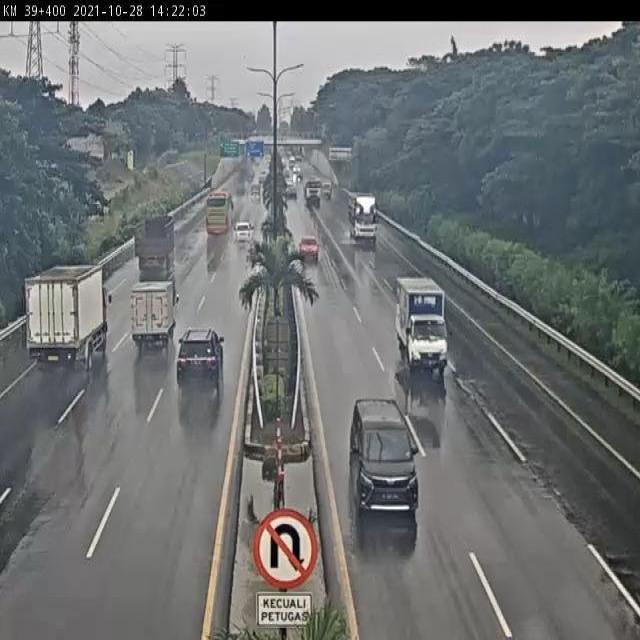big bus: (203, 190, 235, 238)
car: (348, 398, 420, 518), (175, 328, 227, 388), (297, 234, 320, 262), (233, 219, 255, 245)
truck-l-: (21, 260, 112, 372), (129, 212, 177, 272), (346, 191, 382, 249)
truck-s-: (392, 272, 451, 377), (129, 277, 179, 351)
